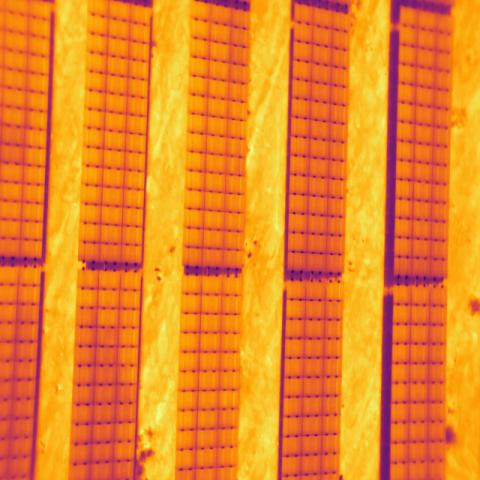fault: (327, 280, 344, 302)
